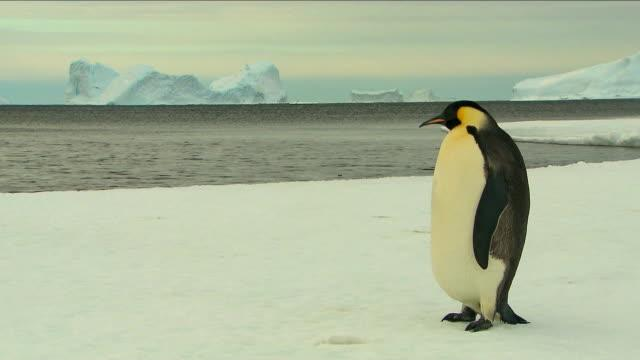emporer: (401, 91, 554, 343)
